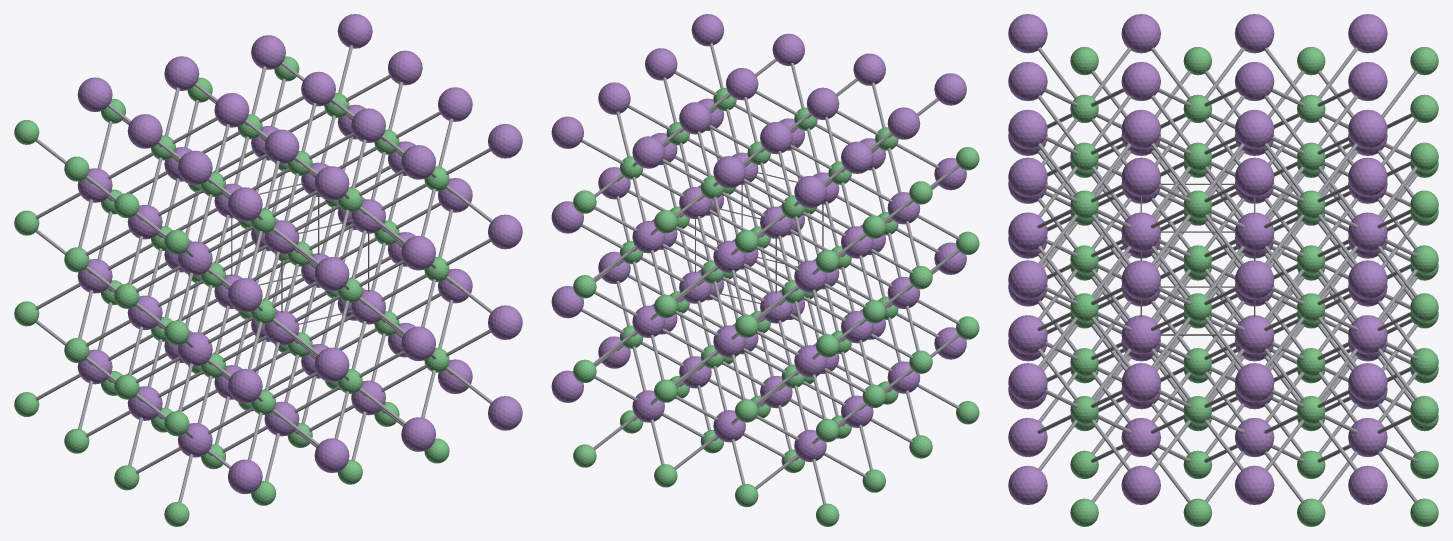
File: CsCl_AR.glb
3 views of the same model, side by side, from view 1: azimuth 30°, elevation 25°; view 2: azimuth 150°, elevation 25°; view 3: azimuth 270°, elevation 25° (orthographic). The views are drawn at different scales.
Visible parts, largest first — view 1: Cs_atoms, coordination_bonds, Cl_atoms, unit_cell_outline; view 2: Cs_atoms, coordination_bonds, Cl_atoms, unit_cell_outline; view 3: Cs_atoms, coordination_bonds, Cl_atoms, unit_cell_outline.
Part boxes in pixels (left/top/right/bottom): Cs_atoms: left=77, top=14, right=522, bottom=493; coordination_bonds: left=35, top=45, right=492, bottom=502; Cl_atoms: left=14, top=56, right=449, bottom=526; unit_cell_outline: left=231, top=183, right=369, bottom=324; Cs_atoms: left=551, top=14, right=966, bottom=462; coordination_bonds: left=581, top=43, right=959, bottom=504; Cl_atoms: left=573, top=88, right=979, bottom=526; unit_cell_outline: left=695, top=171, right=823, bottom=303; Cs_atoms: left=1008, top=14, right=1387, bottom=504; coordination_bonds: left=1037, top=47, right=1417, bottom=502; Cl_atoms: left=1070, top=47, right=1438, bottom=526; unit_cell_outline: left=1140, top=183, right=1255, bottom=335.
Bounding box in the file's own units: 15.67 × 15.67 × 15.67.
